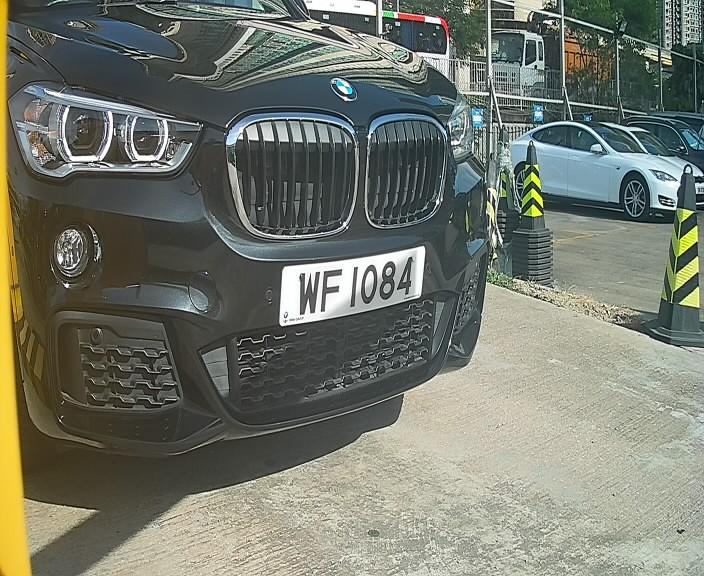License Plate: (277, 237, 431, 342)
